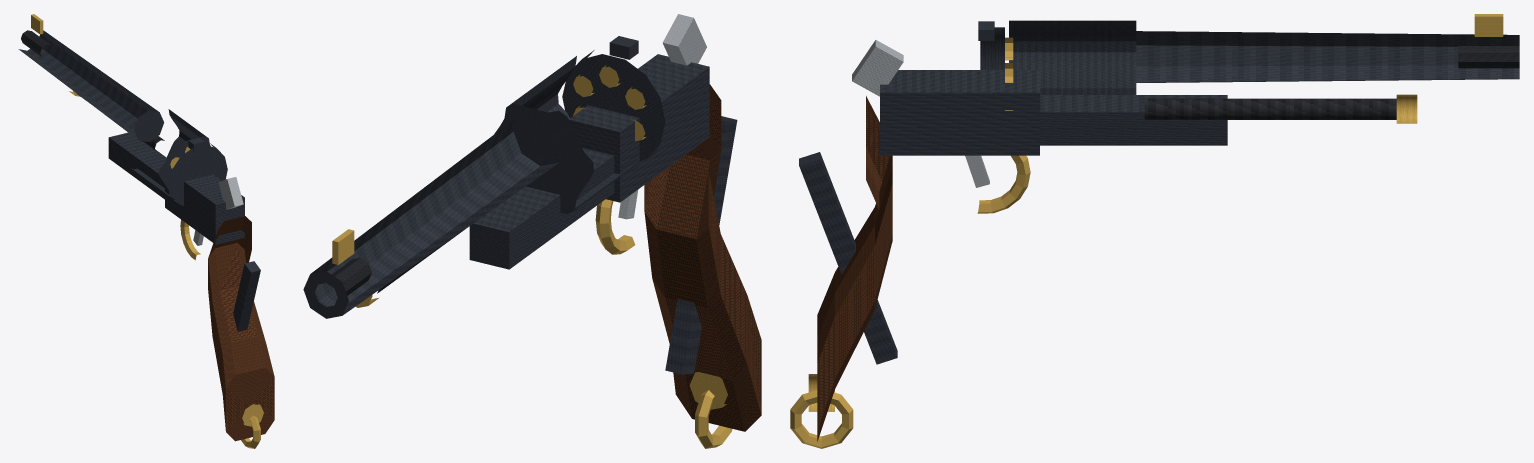
Rendered from gasser_m1870.glb.
The picture shows the model from 3 angles, left to right: view 1: azimuth 30°, elevation 25°; view 2: azimuth 150°, elevation 25°; view 3: azimuth 270°, elevation 25°; orthographic projection. The views are drawn at different scales.
Visible parts, largest first — view 1: WeaponMesh; view 2: WeaponMesh; view 3: WeaponMesh.
Boxes of the visible parts, x1=… form: WeaponMesh: x1=18, y1=14, x2=274, y2=448; WeaponMesh: x1=303, y1=14, x2=761, y2=448; WeaponMesh: x1=790, y1=14, x2=1519, y2=448.
Bounding box in the file's own units: 0.054 × 0.2333 × 0.3558.
5 materials, 5 textured.
